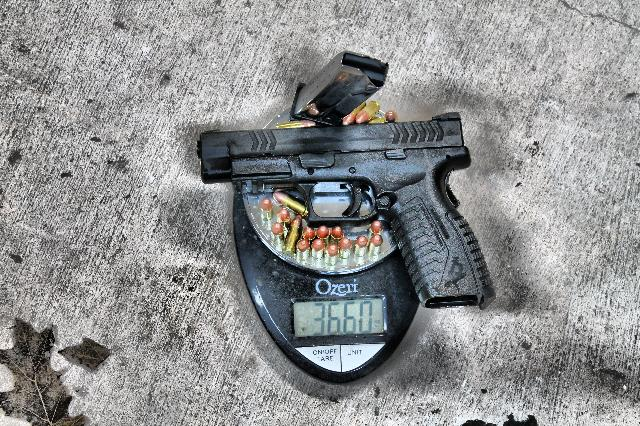pistol: (195, 113, 493, 313)
